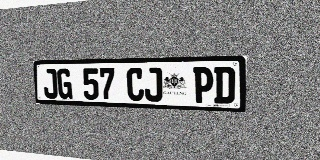5: (83, 68, 99, 100)
7: (98, 68, 115, 100)
C: (126, 68, 144, 101)
D: (214, 67, 235, 104)
G: (57, 68, 72, 99)
J: (144, 67, 162, 102), (43, 69, 58, 99)
P: (193, 67, 213, 103)
